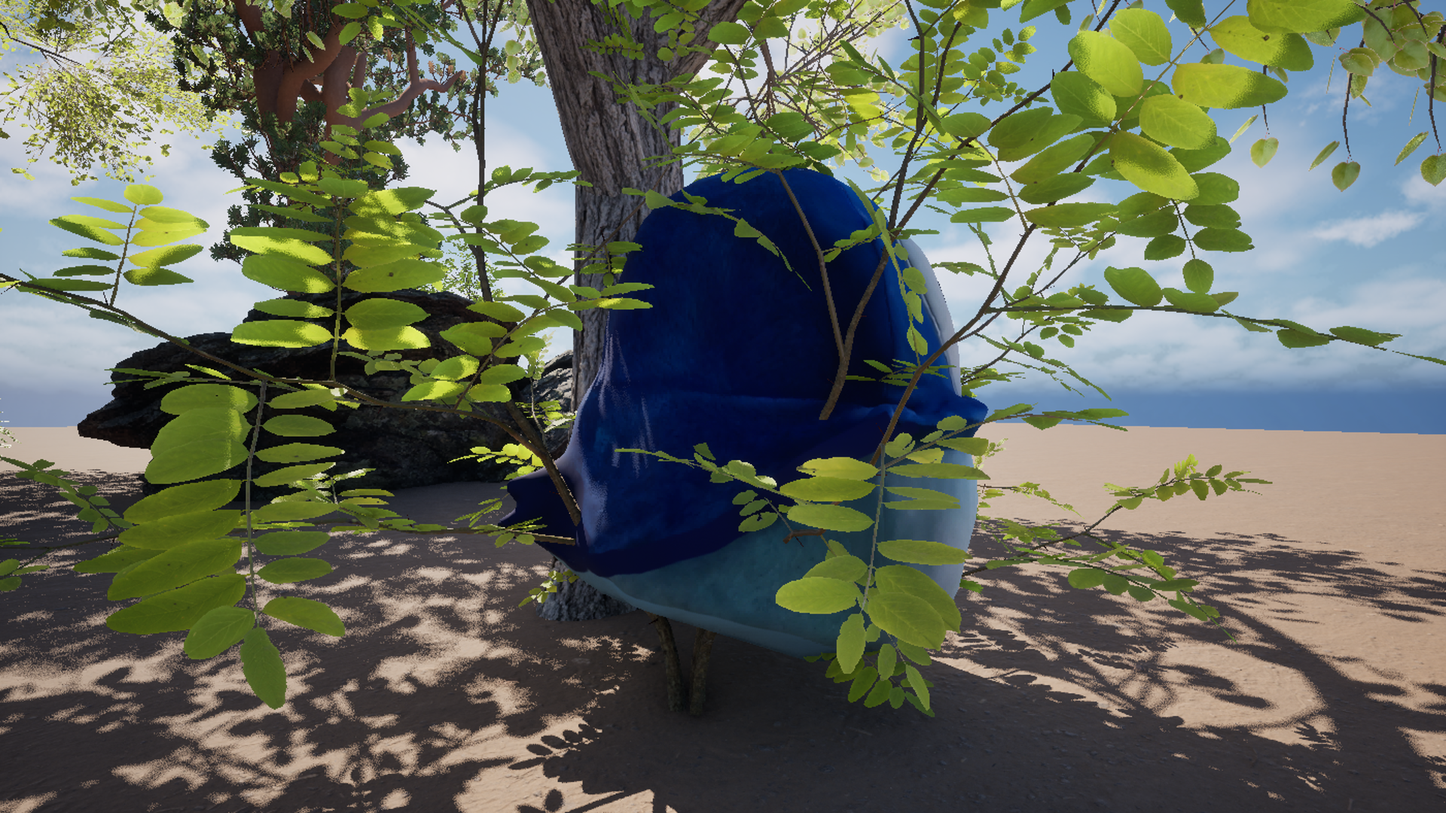Piplup: (439, 0, 1155, 813)
